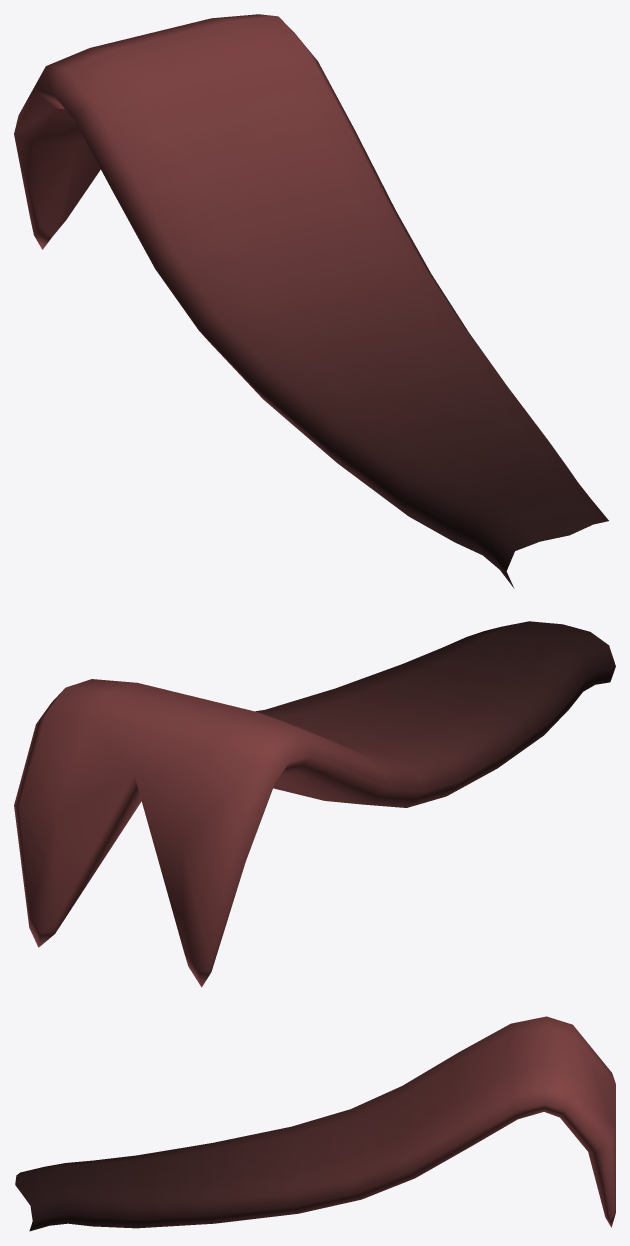
The model's file is forked.glb.
3 views of the same model, one above another, from view 1: azimuth 30°, elevation 25°; view 2: azimuth 150°, elevation 25°; view 3: azimuth 270°, elevation 25° (orthographic). The views are drawn at different scales.
Visible parts, largest first — view 1: pPlane1; view 2: pPlane1; view 3: pPlane1.
Part boxes in pixels (x1,y1,x2,y2): pPlane1: [14, 14, 608, 588]; pPlane1: [14, 621, 615, 987]; pPlane1: [15, 1016, 615, 1231].
Size of the model in its own units: 0.0534 by 0.0541 by 0.1716.
Materials: 1 (1 with a texture image).
